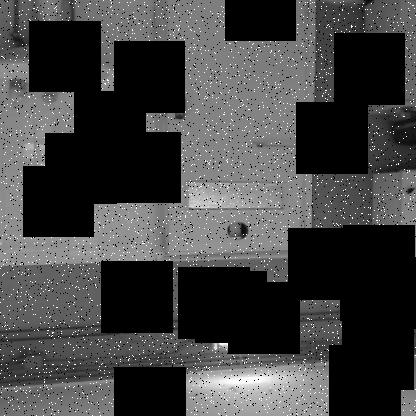Porte: (155, 1, 317, 261)
